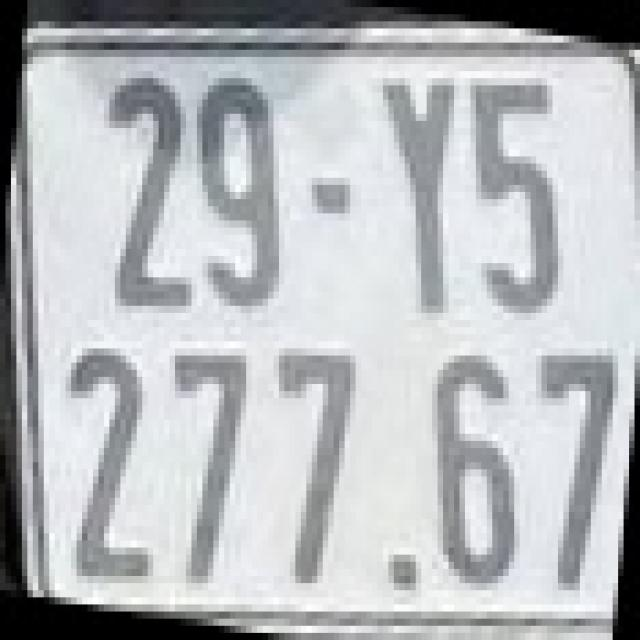2: (60, 341, 159, 583), (98, 71, 197, 313)
5: (470, 71, 569, 313)
6: (426, 349, 520, 583)
7: (274, 341, 361, 583), (170, 341, 252, 583), (536, 348, 613, 590)
9: (197, 71, 290, 313)
Y: (383, 68, 459, 310)
